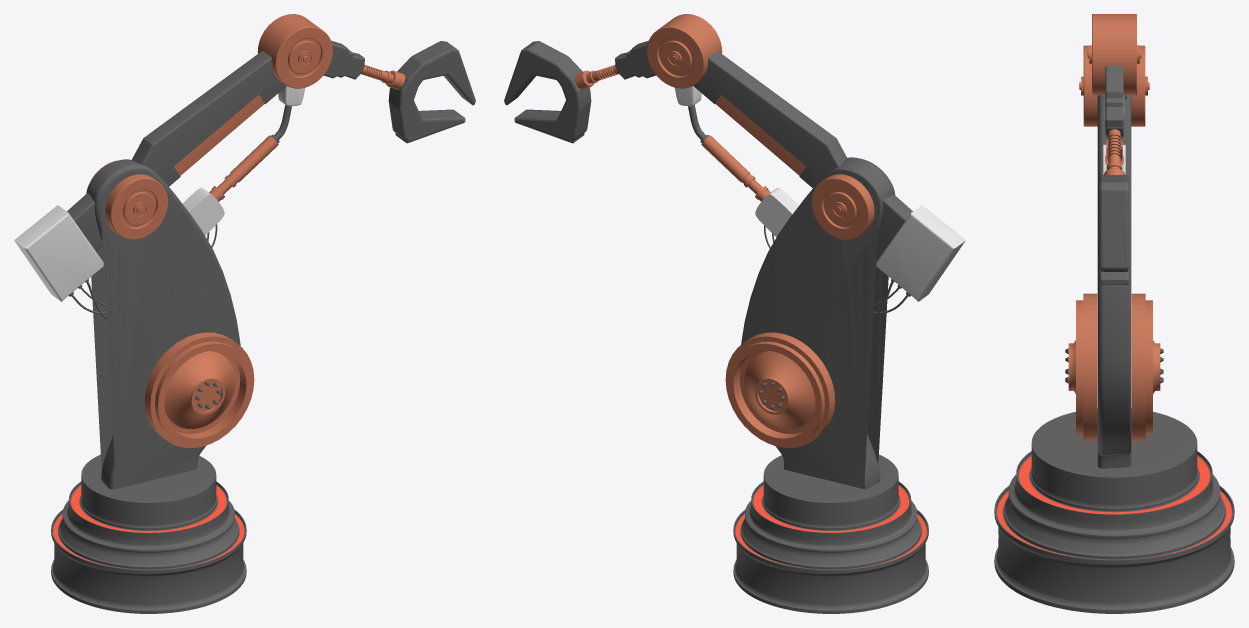
File: arm-robot.fbx
3 views of the same model, side by side, from view 1: azimuth 30°, elevation 25°; view 2: azimuth 150°, elevation 25°; view 3: azimuth 270°, elevation 25° (orthographic). The views are drawn at different scales.
Visible parts, largest first — view 1: Stand_2, Base, SCEW, Stand_1, Extrude_8, Extrude_3, Cylinder_1, Cylinder, Extrude_2, Sweep_3, Extrude, Extrude_7; view 2: Stand_2, Base, SCEW, Stand_1, Extrude_8, Extrude_3, Cylinder_1, Cylinder, Extrude_2, Sweep_3, Extrude, Extrude_7; view 3: Base, Stand_2, SCEW, Extrude_8, Cylinder_1, Cylinder, Extrude_7, Sweep_7.
Part boxes in pixels (x1,y1,x2,y2): Stand_2: [86, 159, 240, 489]; Base: [51, 455, 246, 613]; SCEW: [144, 332, 254, 447]; Stand_1: [131, 50, 286, 186]; Extrude_8: [388, 41, 475, 143]; Extrude_3: [14, 205, 103, 301]; Cylinder_1: [257, 14, 332, 88]; Cylinder: [90, 160, 168, 239]; Extrude_2: [182, 187, 224, 235]; Sweep_3: [209, 135, 278, 201]; Extrude: [67, 193, 102, 250]; Extrude_7: [323, 40, 364, 79]; Stand_2: [741, 157, 895, 489]; Base: [733, 454, 928, 613]; SCEW: [725, 332, 835, 447]; Stand_1: [693, 50, 846, 187]; Extrude_8: [504, 41, 591, 143]; Extrude_3: [876, 205, 965, 301]; Cylinder_1: [647, 14, 722, 88]; Cylinder: [811, 174, 874, 239]; Extrude_2: [755, 187, 798, 237]; Sweep_3: [701, 135, 770, 201]; Extrude: [877, 195, 912, 250]; Extrude_7: [615, 40, 656, 79]; Base: [994, 408, 1234, 613]; Stand_2: [1097, 95, 1131, 468]; SCEW: [1065, 293, 1163, 440]; Extrude_8: [1099, 175, 1129, 284]; Cylinder_1: [1087, 14, 1141, 95]; Cylinder: [1079, 45, 1149, 126]; Extrude_7: [1105, 65, 1123, 137]; Sweep_7: [1104, 129, 1124, 174].
Bounding box in the file's own units: 515 × 563 × 193.
